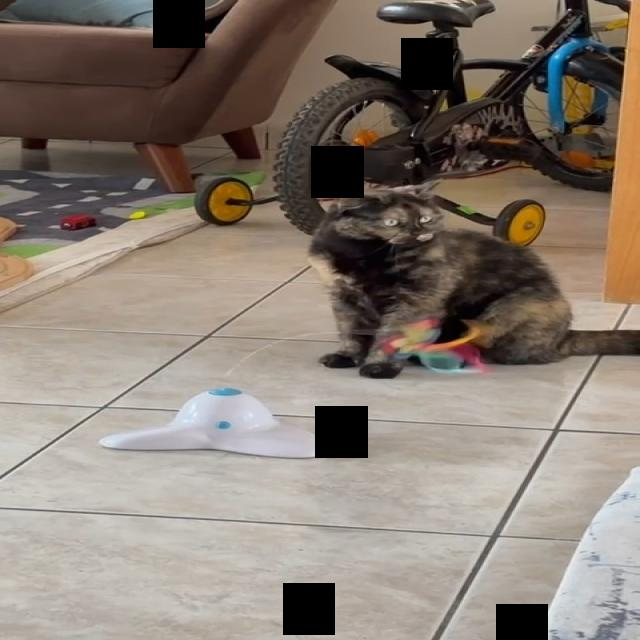authorized: (305, 178, 639, 378)
